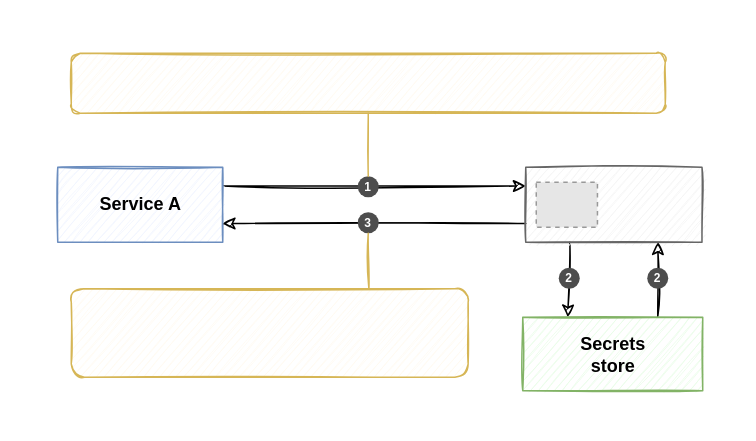
The diagram is 756 pixels wide and 441 high, and some of its shapes have lost their labels. Grey dashed boxes stand in for pictures. Each missing label, with the box of its shape:
GET http://localhost:3500/v1.0/secrets/secrets-store/redis-password: (70, 52, 665, 113)
Service A sidecar: (524, 166, 702, 242)
{ "redis-password": "k6Gt#ja2l$ft" }: (70, 287, 468, 377)
